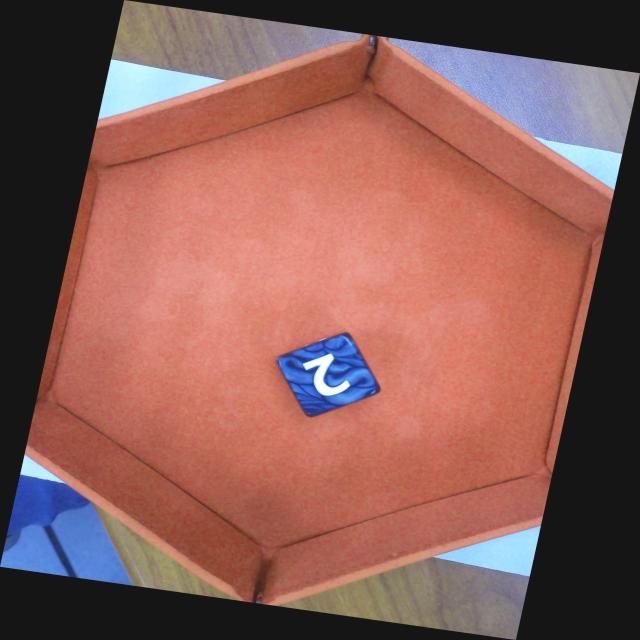dice: (283, 335, 381, 420)
